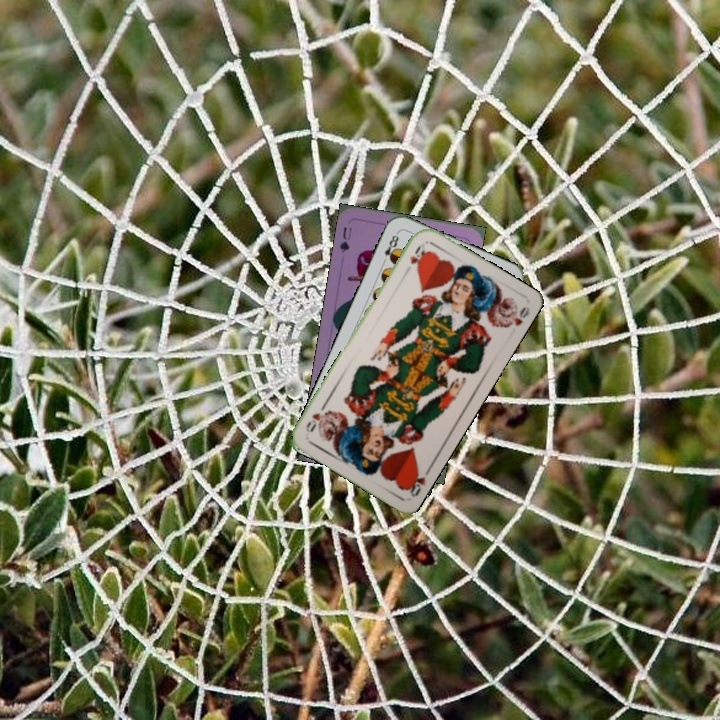E8: (378, 228, 402, 266)
GU: (335, 223, 355, 255)
HO: (402, 463, 434, 499), (401, 242, 428, 276)
